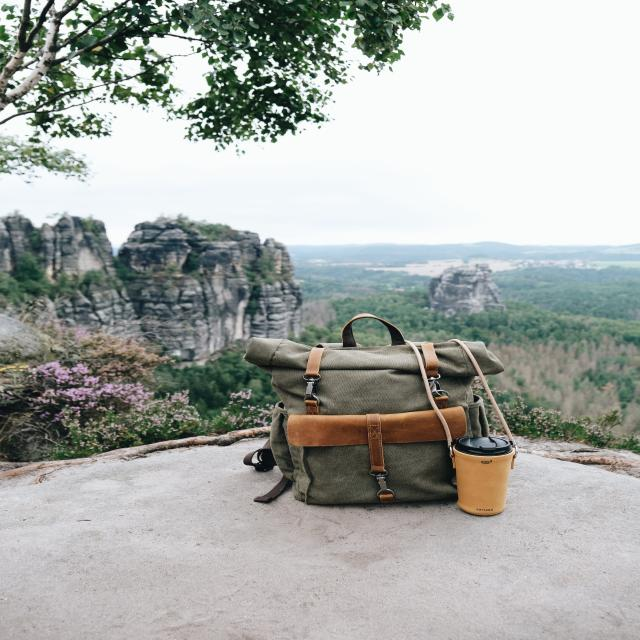backpack: (246, 316, 508, 516)
